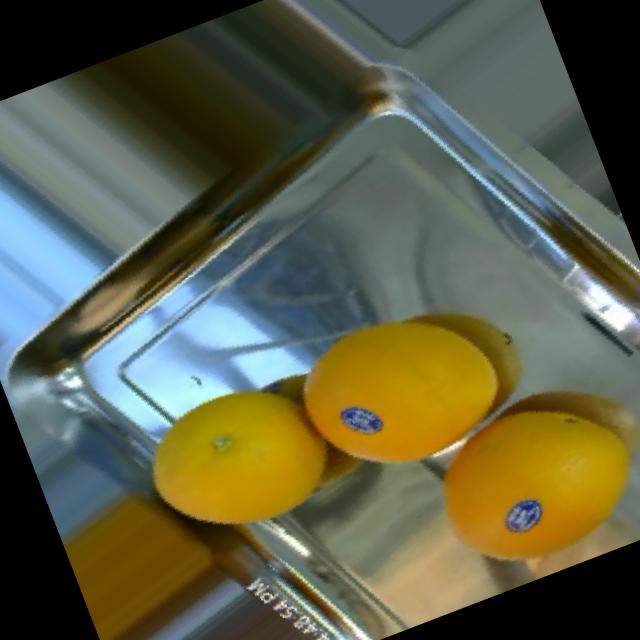Fruit: (107, 354, 370, 586), (453, 323, 640, 574)
